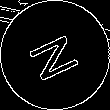N_NE: (23, 26, 87, 84)
